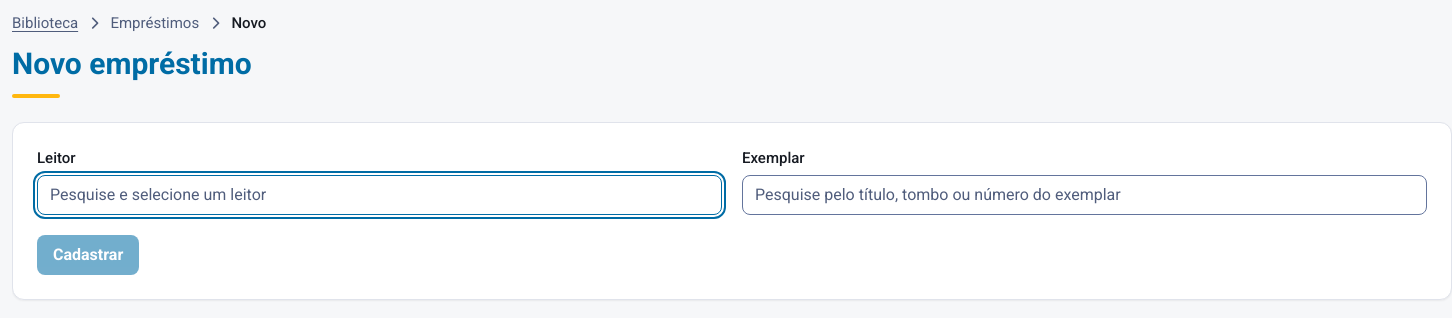
Test: novo empréstimo autocomplete › accepts a reader name containing an apostrophe
Step 1. Type "clebio d'avila" into the dropdown with id "leitor" → (380,195), box x1=37 y1=175 x2=722 y2=215
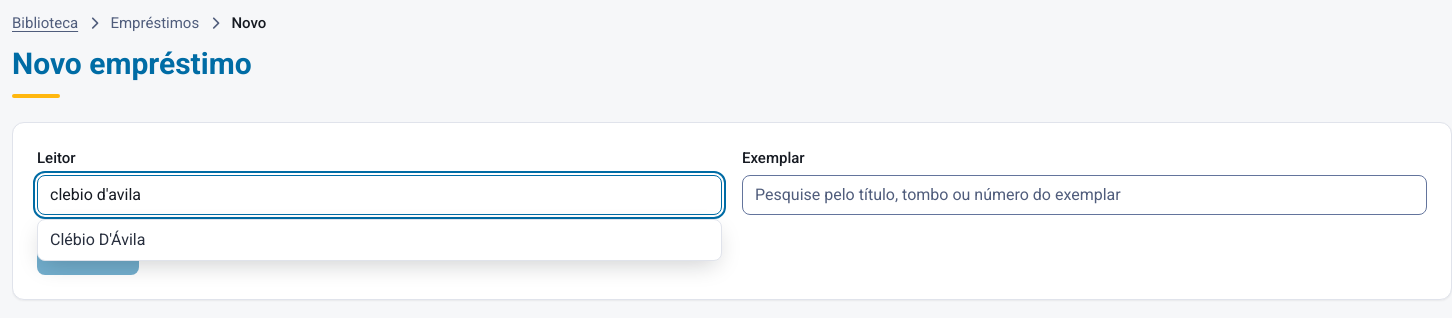
Step 2. Click the option "Clébio D'Ávila" → (98,240), box x1=38 y1=220 x2=721 y2=260
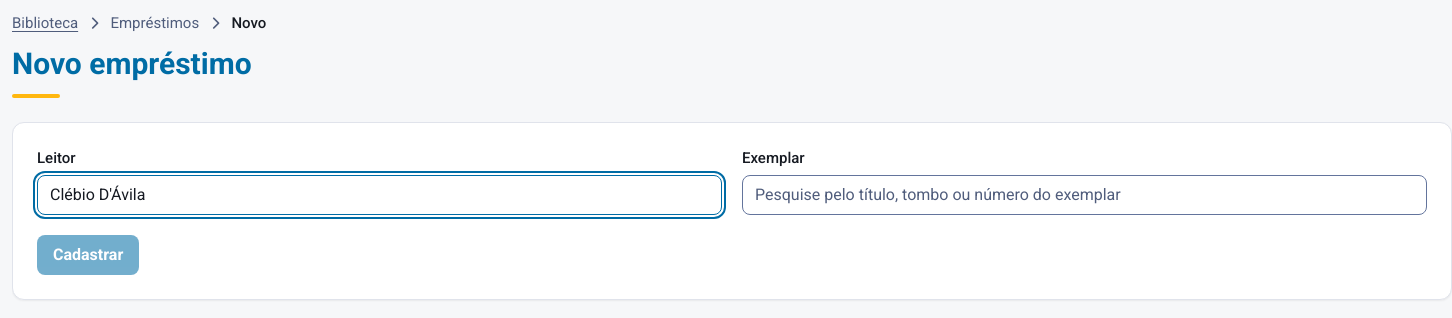
Result: the dropdown with id "leitor" holds "Clébio D'Ávila" at x1=37 y1=175 x2=722 y2=215
